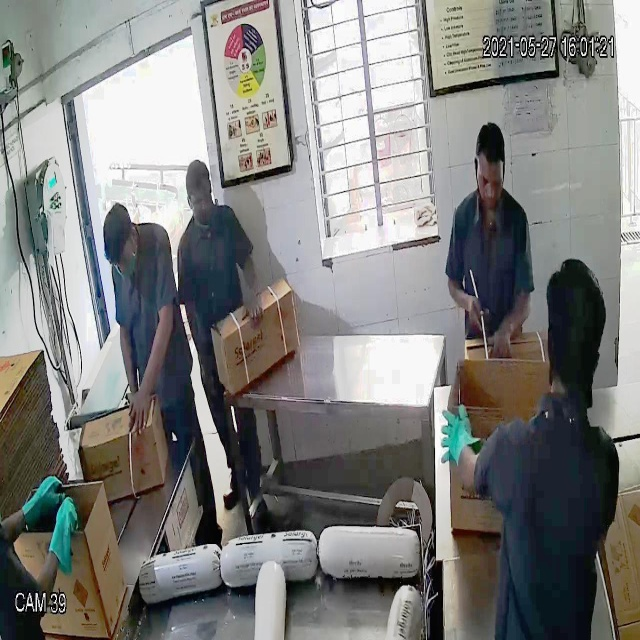Sin_gafas: (472, 164, 507, 196)
